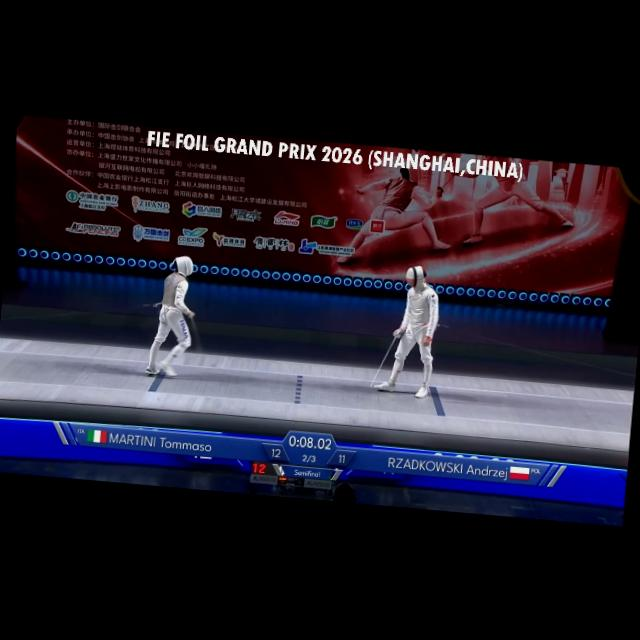blade: (364, 326, 402, 393), (184, 308, 211, 358)
